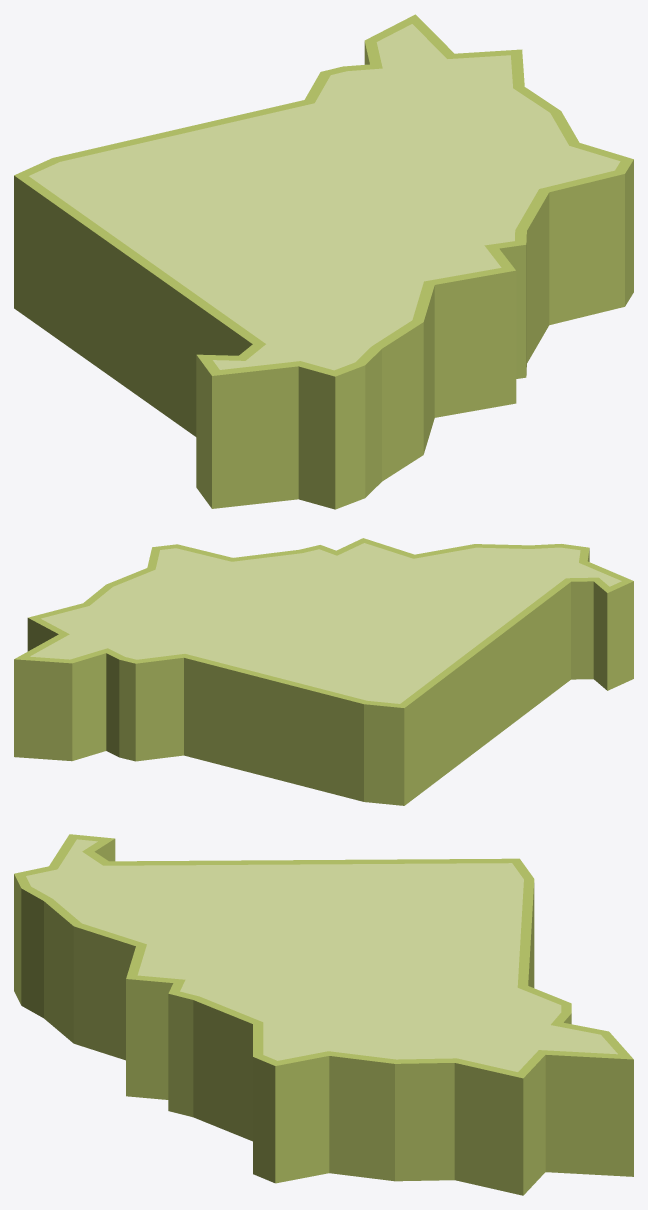
Rendered from Islands3.004.fbx.
3 renders of one model, top to bottom at view 1: azimuth 30°, elevation 25°; view 2: azimuth 150°, elevation 25°; view 3: azimuth 270°, elevation 25°, orthographic. The views are drawn at different scales.
Visible parts, largest first — view 1: Island3.004; view 2: Island3.004; view 3: Island3.004.
Part boxes in pixels (<box>): Island3.004: <box>14,14,633,509</box>; Island3.004: <box>14,538,633,805</box>; Island3.004: <box>14,834,633,1195</box>.
Size of the model in its own units: 112 by 25 by 120.
